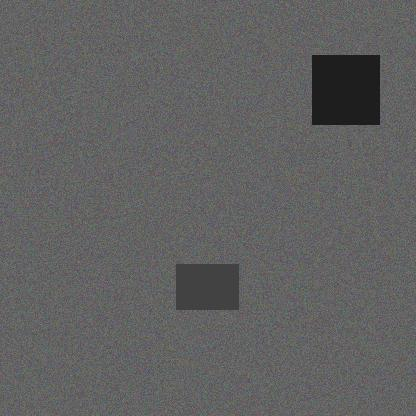empty: (126, 131, 173, 194)
